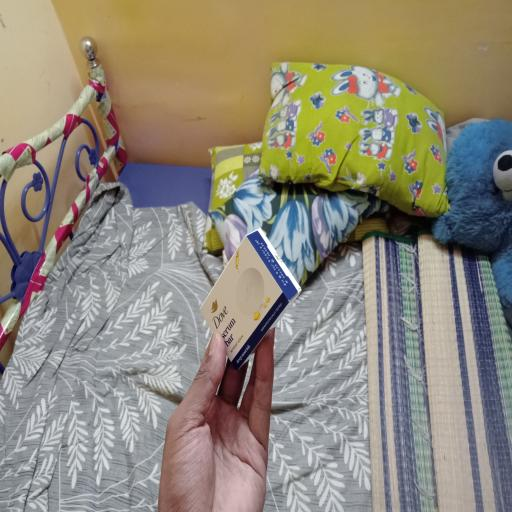Dove`1: (181, 220, 323, 381)
